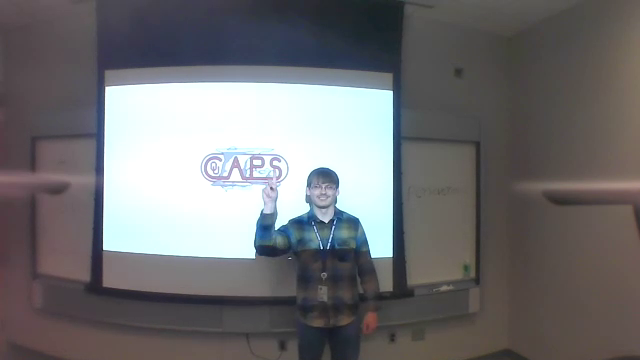up: (260, 166, 281, 204)
